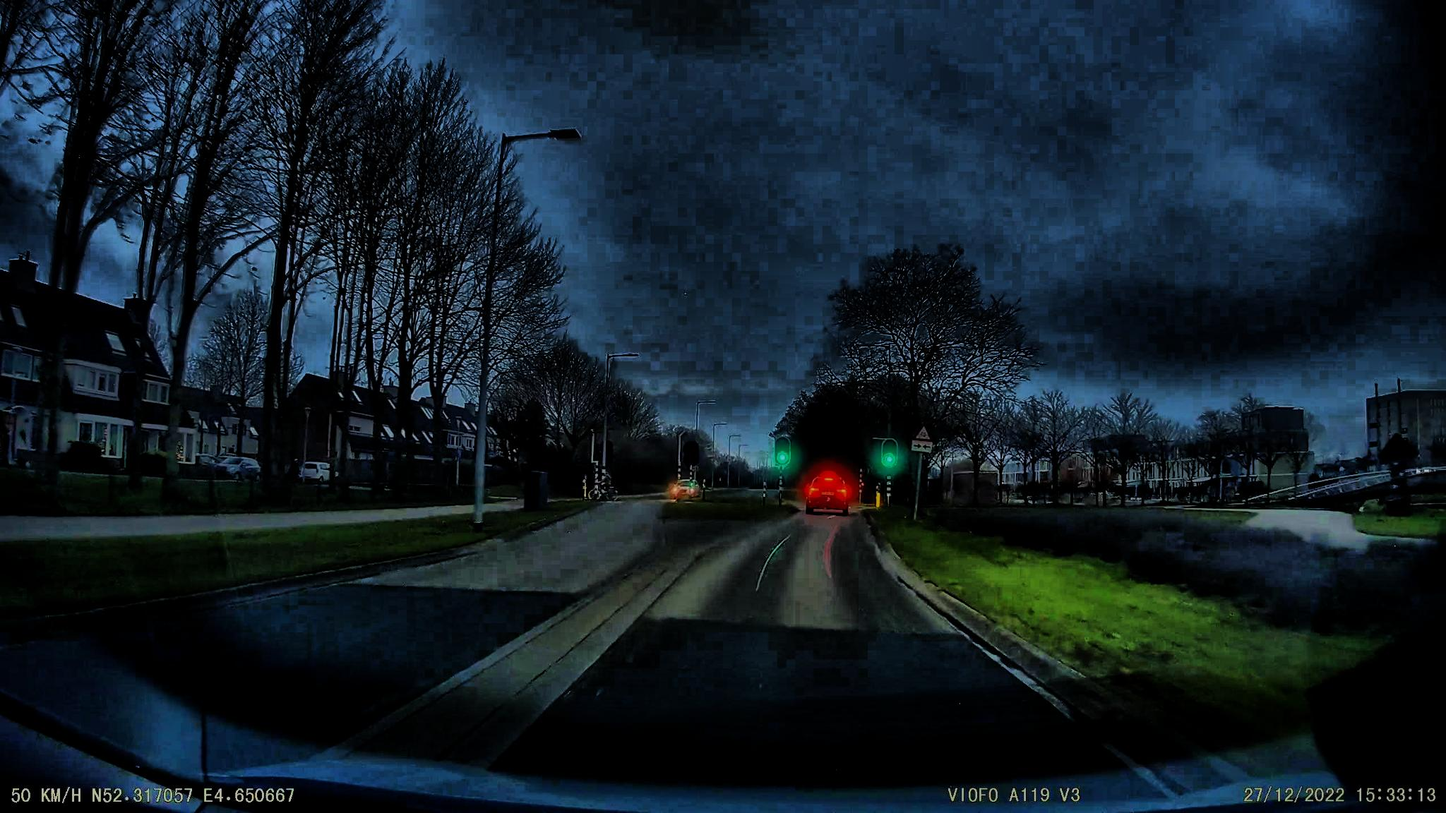Roads: (0, 502, 1164, 813)
